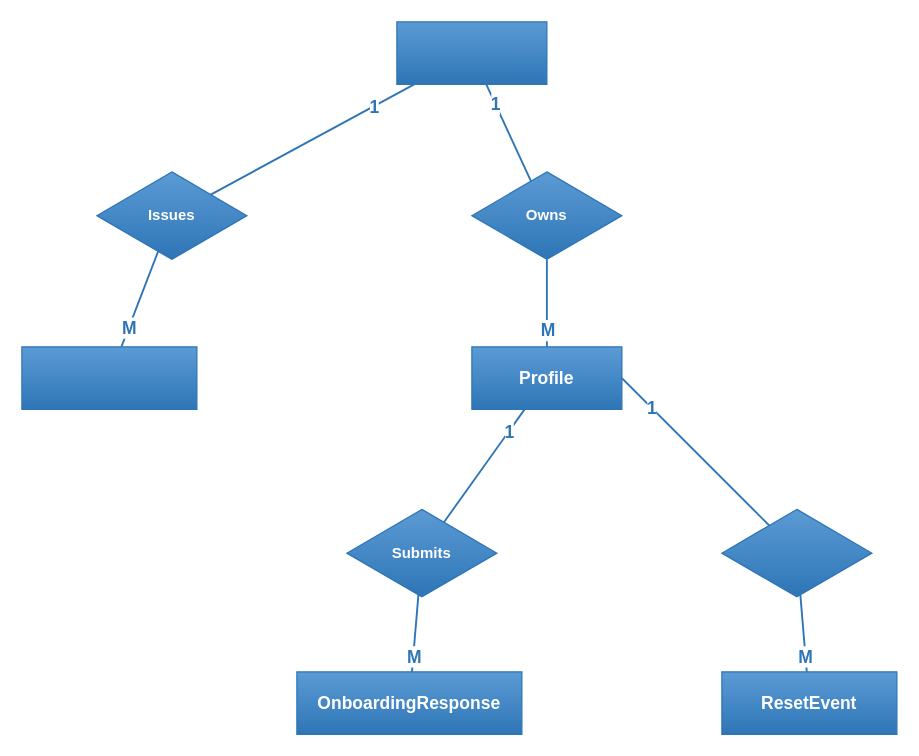
This 919x756 diagram has some shape labels left out. The centre of each missing label's shape, as x and y in pixels:
Logs: the point at 796,552
RefreshToken: the point at 109,377
User: the point at 471,52
